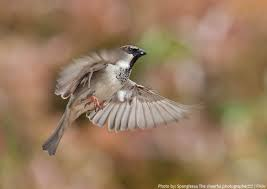hsparrow: (37, 41, 203, 159)
